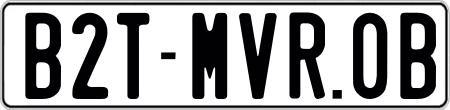0: (352, 13, 390, 99)
2: (71, 12, 110, 101)
B: (24, 10, 61, 98), (398, 10, 430, 102)
M: (190, 12, 227, 101)
R: (288, 10, 325, 99)
T: (116, 13, 152, 102)
V: (239, 12, 277, 104)
